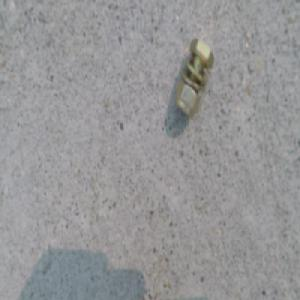BoltNutSet: (176, 32, 216, 111)
